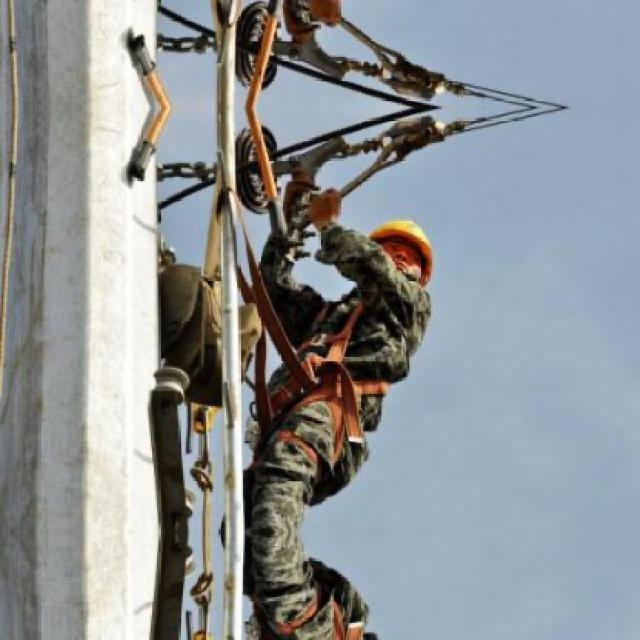Arnes_seguridad: (257, 297, 389, 462)
